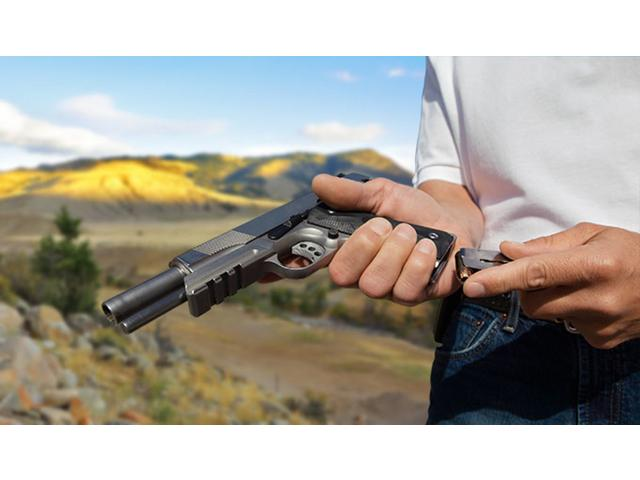pistol: (92, 165, 459, 339)
